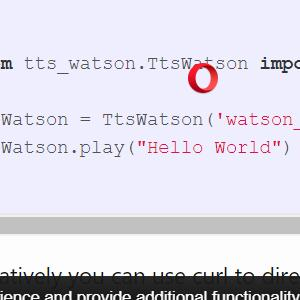opera: (188, 63, 218, 93)
